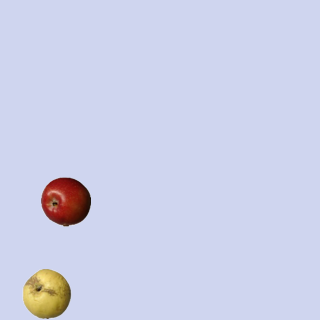Apple Braeburn: (40, 176, 90, 226)
Apple Golden 1: (21, 268, 71, 318)
